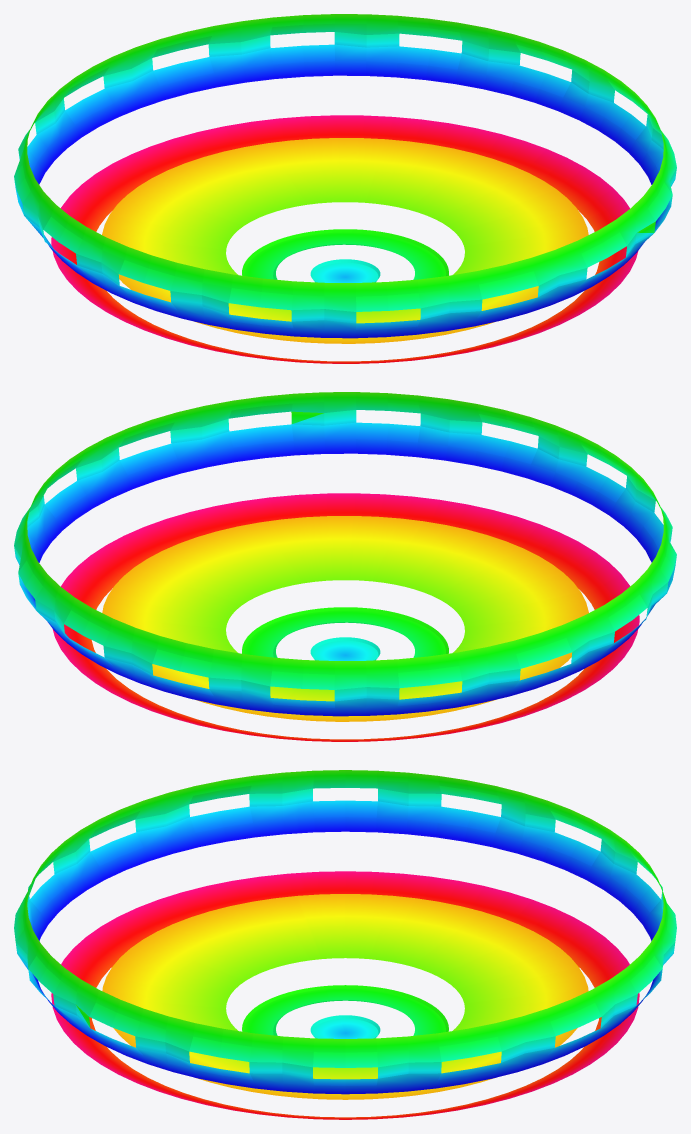
Rendered from xenosands-darksun-neon.glb.
3 renders of one model, top to bottom at view 1: azimuth 30°, elevation 25°; view 2: azimuth 150°, elevation 25°; view 3: azimuth 270°, elevation 25°, orthographic.
Parts seen in each view (by area): view 1: DarkSun-Neon; view 2: DarkSun-Neon; view 3: DarkSun-Neon.
Boxes of the visible parts, x1=… form: DarkSun-Neon: x1=14, y1=14, x2=676, y2=363; DarkSun-Neon: x1=14, y1=392, x2=676, y2=741; DarkSun-Neon: x1=14, y1=770, x2=676, y2=1119.
Bounding box in the file's own units: 44.8 × 9.58 × 44.8.
Materials: 1 (1 with a texture image).
